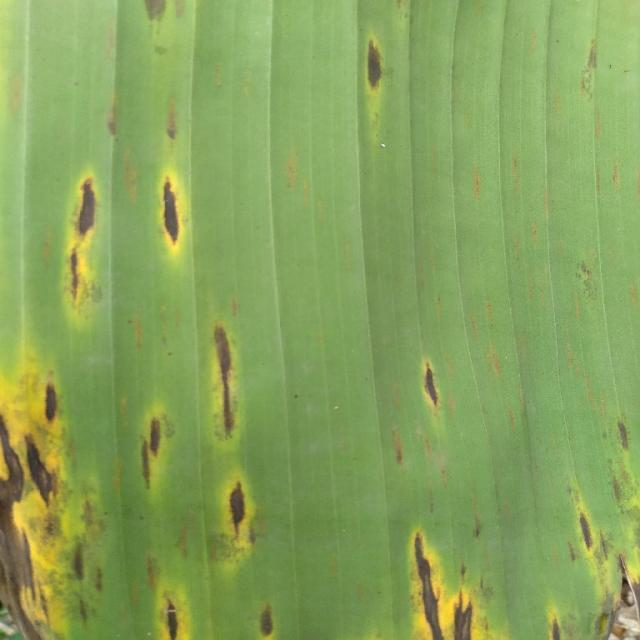Early_rust: (0, 156, 296, 640), (521, 477, 640, 640), (393, 519, 507, 640), (317, 13, 395, 136), (404, 328, 459, 415)
